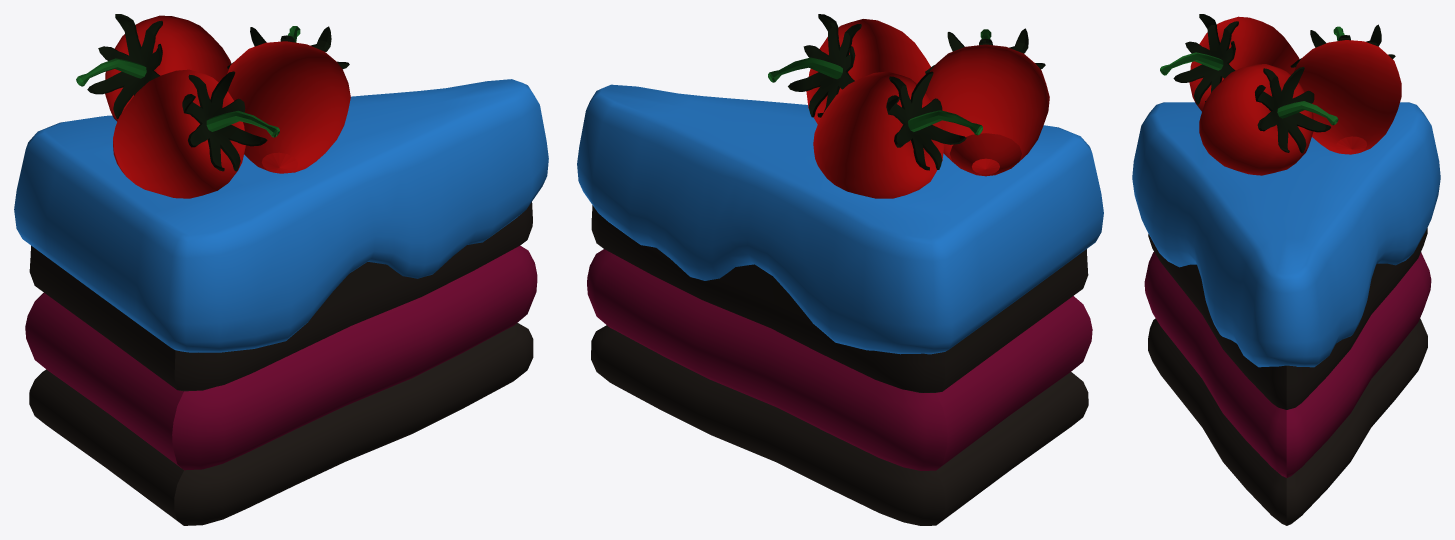
Rendered from Cake_2.FBX.
3 views of the same model, side by side, from view 1: azimuth 30°, elevation 25°; view 2: azimuth 150°, elevation 25°; view 3: azimuth 270°, elevation 25° (orthographic). The views are drawn at different scales.
Parts seen in each view (by area): view 1: Cake_2; view 2: Cake_2; view 3: Cake_2.
Part boxes in pixels (box(x1,y1,x2,y2)): Cake_2: box(14, 14, 548, 525); Cake_2: box(577, 14, 1103, 525); Cake_2: box(1132, 14, 1440, 525).
Bounding box in the file's own units: 1061 × 724 × 919.
